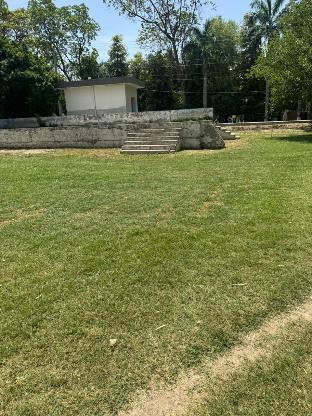stair: (118, 118, 182, 161)
